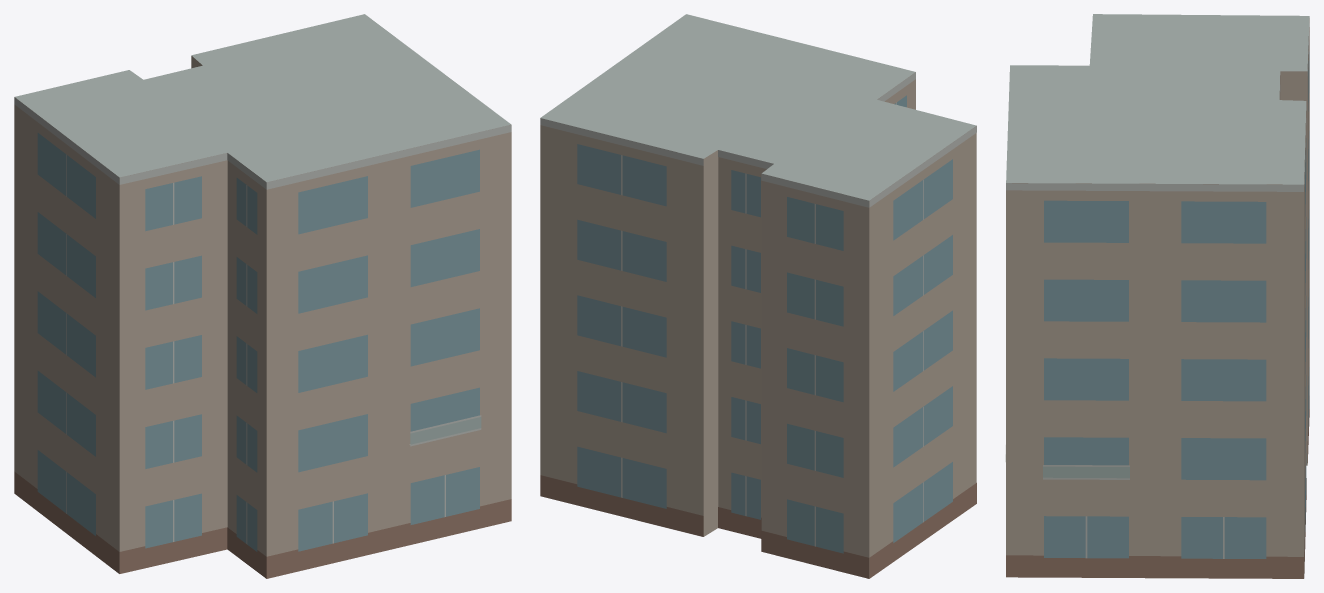
Rendered from survey-upis-32975201.glb.
3 renders of one model, left to right at view 1: azimuth 30°, elevation 25°; view 2: azimuth 150°, elevation 25°; view 3: azimuth 270°, elevation 25°, orthographic. The views are drawn at different scales.
Parts seen in each view (by area): view 1: survey-upis-32975201.tmp; view 2: survey-upis-32975201.tmp; view 3: survey-upis-32975201.tmp.
Boxes of the visible parts, box(x1,y1,x2,y2) form: survey-upis-32975201.tmp: box(14, 14, 511, 578); survey-upis-32975201.tmp: box(540, 14, 976, 578); survey-upis-32975201.tmp: box(1005, 14, 1309, 578).
Bounding box in the file's own units: 12.07 × 13 × 9.1.
